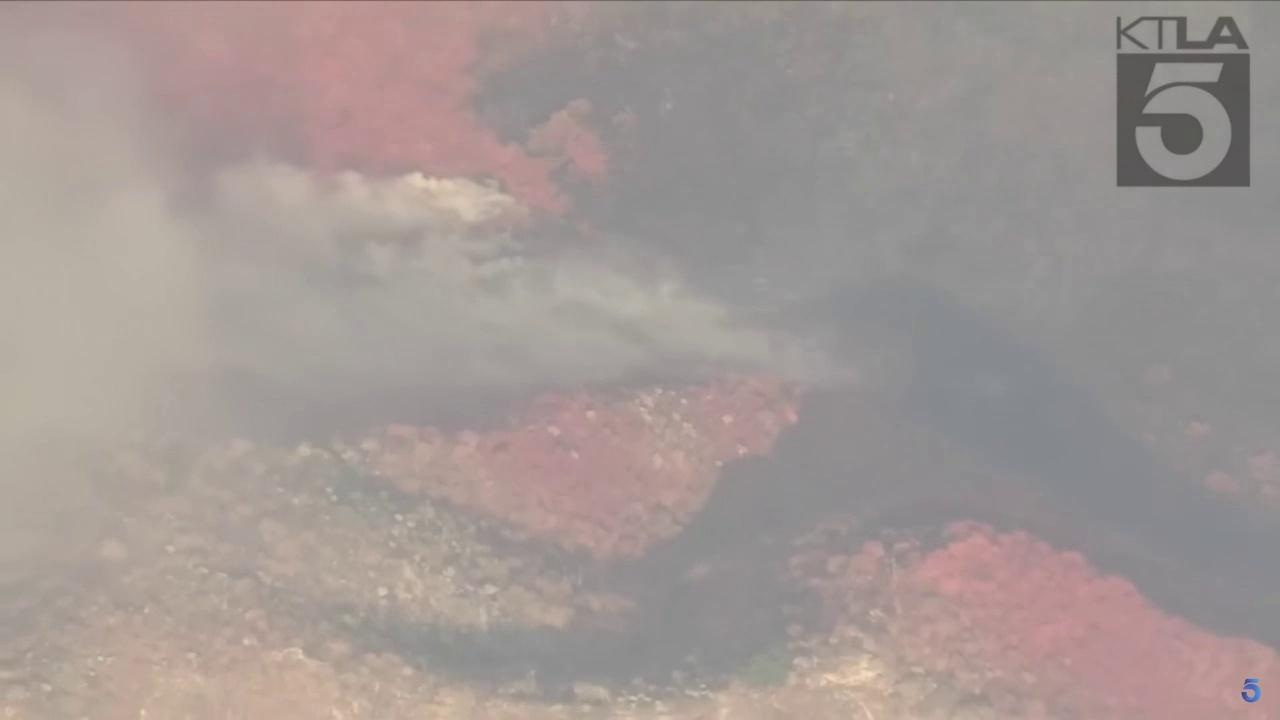smoke: (0, 0, 859, 448)
